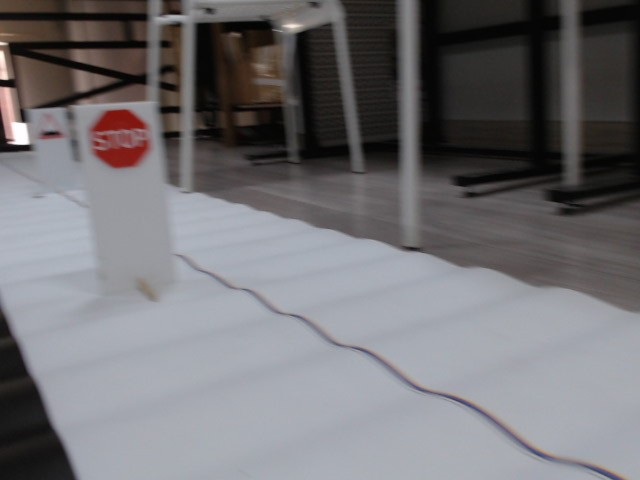Stop: (88, 108, 153, 168)
